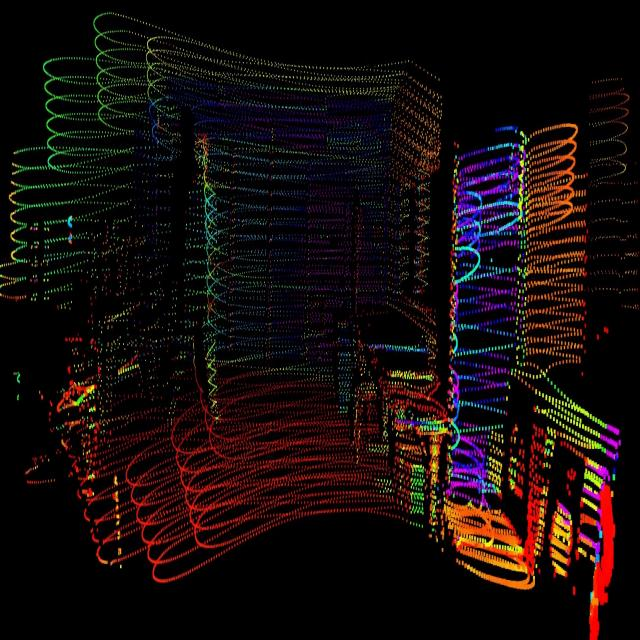human: (166, 123, 226, 425)
